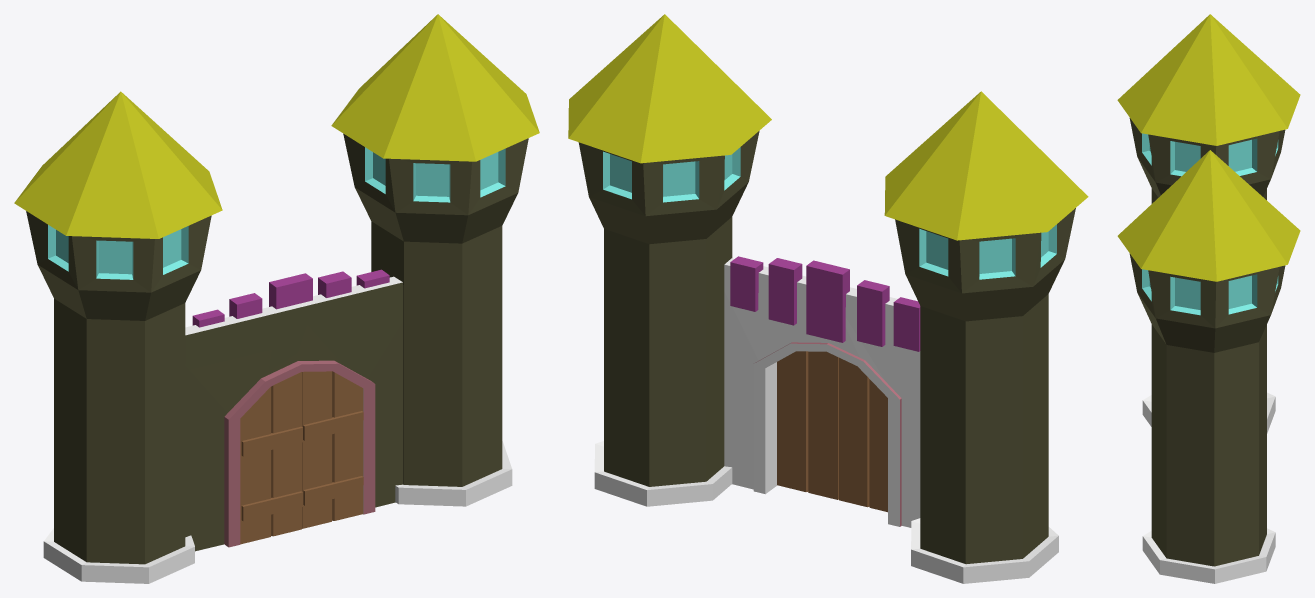
File: deneme_3.fbx
3 views of the same model, side by side, from view 1: azimuth 30°, elevation 25°; view 2: azimuth 150°, elevation 25°; view 3: azimuth 270°, elevation 25° (orthographic). The views are drawn at different scales.
Parts seen in each view (by area): view 1: Castle_3_lvl_mat14, Castle_gate_3_1_mat, Castle_gate_3_2_mat; view 2: Castle_3_lvl_mat14, Castle_gate_3_2_mat, Castle_gate_3_1_mat; view 3: Castle_3_lvl_mat14.
Part boxes in pixels (<box>): Castle_3_lvl_mat14: <box>14,14,539,583</box>; Castle_gate_3_1_mat: <box>240,372,302,544</box>; Castle_gate_3_2_mat: <box>302,371,363,528</box>; Castle_3_lvl_mat14: <box>568,14,1088,583</box>; Castle_gate_3_2_mat: <box>777,351,838,499</box>; Castle_gate_3_1_mat: <box>839,357,887,512</box>; Castle_3_lvl_mat14: <box>1117,14,1300,583</box>.
Bounding box in the file's own units: 506 × 450 × 184.
